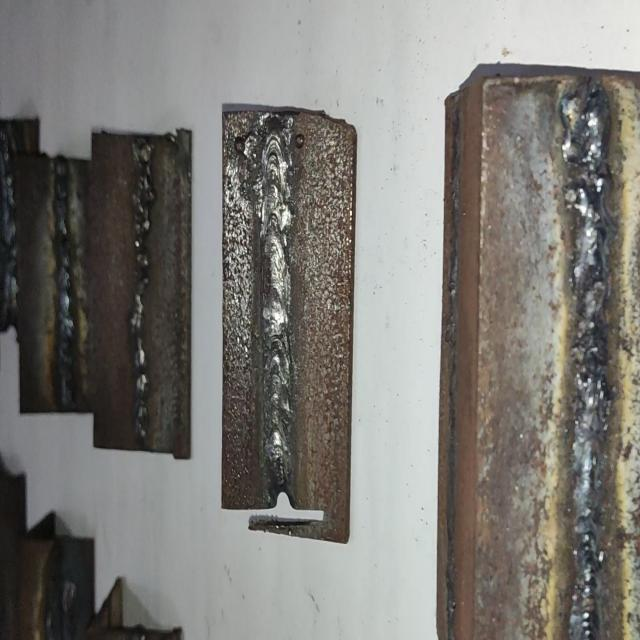Welding Line: (564, 92, 617, 640), (266, 132, 290, 482), (130, 143, 150, 443), (55, 169, 74, 409)
Workpiece: (438, 78, 640, 640), (223, 108, 354, 536), (97, 133, 191, 454), (20, 158, 100, 417)
